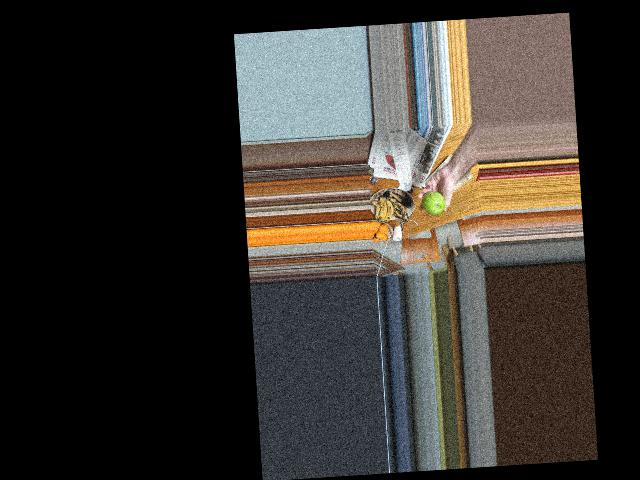apple: (421, 189, 446, 214)
